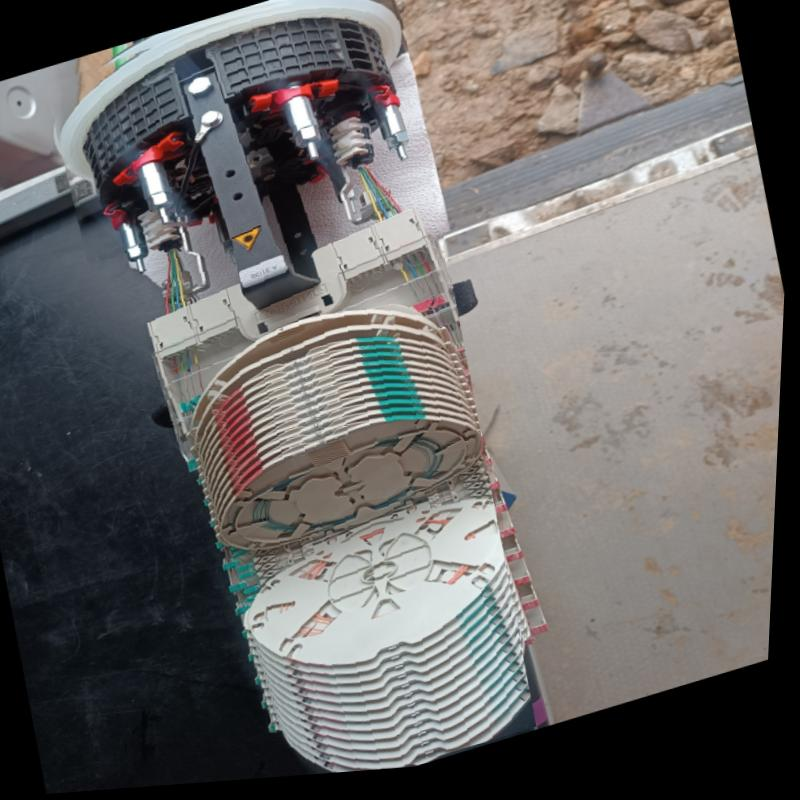NT-Muffen: (17, 0, 570, 797)
